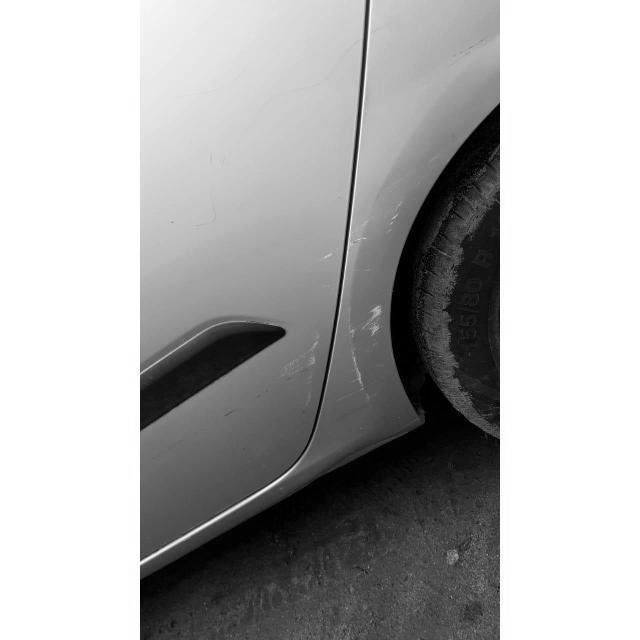doorouter-dent: (141, 3, 350, 475)
quaterpanel-dent: (355, 0, 500, 438)
